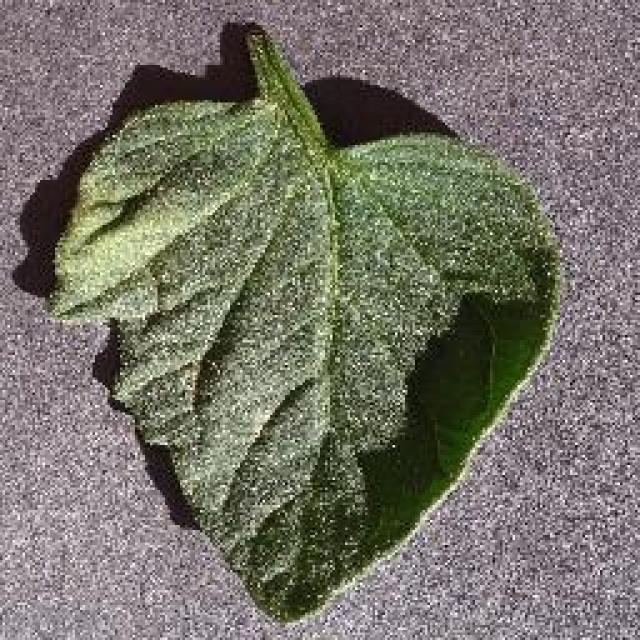Tomato___healthy: (42, 28, 568, 632)
